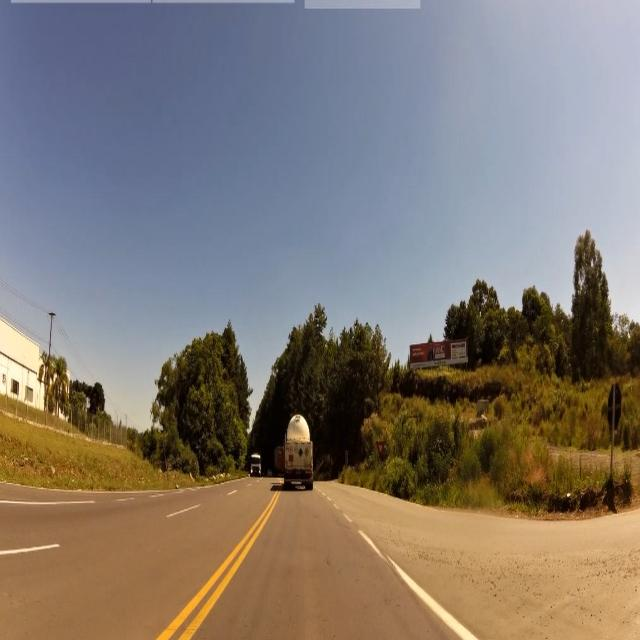R-2: (376, 440, 385, 459)
